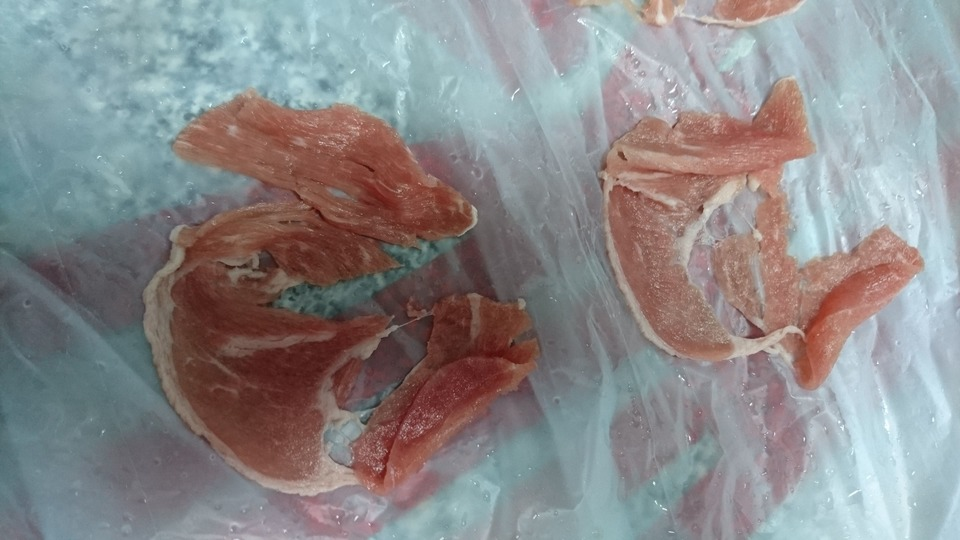restructured meat: (142, 90, 543, 496), (587, 73, 936, 402)
